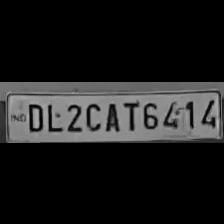1: (178, 96, 196, 130)
2: (64, 100, 82, 132)
4: (160, 97, 180, 129), (198, 94, 216, 128)
6: (138, 98, 158, 130)
A: (102, 99, 122, 131)
C: (84, 99, 103, 131)
D: (23, 100, 44, 132)
L: (44, 100, 61, 132)
T: (120, 98, 138, 132)
